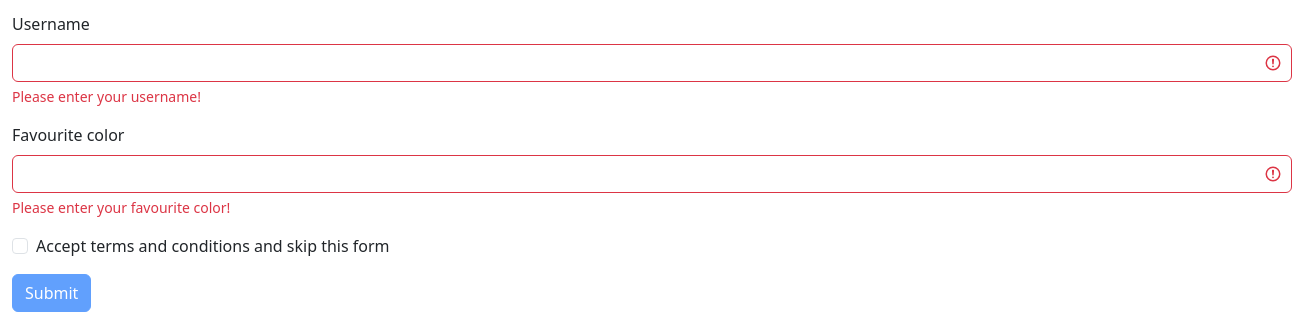
Test case: Form page › color field validation along with submit button status
This screenshot has width=1304, height=329.
Check: the text "Please enter your favourite color!" is shown, box [12,198,230,217]
expecting the validation to be successful after entering the color
Type "somevalue" into the field with test id "color-field".
click(652, 174); type("somevalue")  # box [12,155,1292,193]
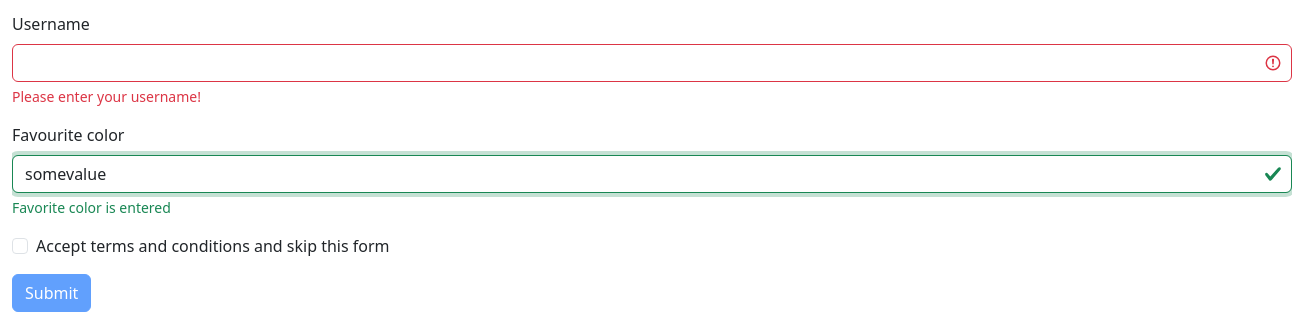
Check: the text "Favorite color is entered" is shown, box [12,198,171,217]
expecting the validation to be unsuccessful after clearing the color and submit button to be disabled
Clear the field with test id "color-field" at (652, 174), box [12,155,1292,193]
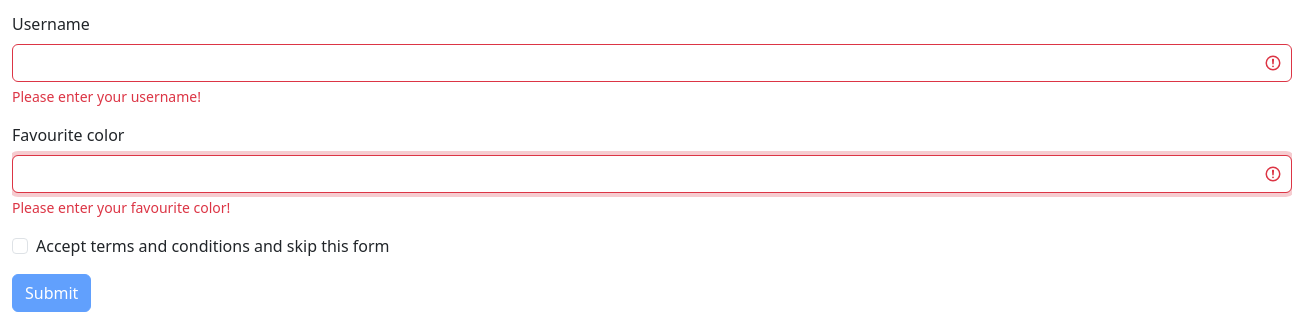
Check: the button labelled "Submit" is disabled, box [12,274,91,312]
Check: the text "Please enter your favourite color!" is shown, box [12,198,230,217]
